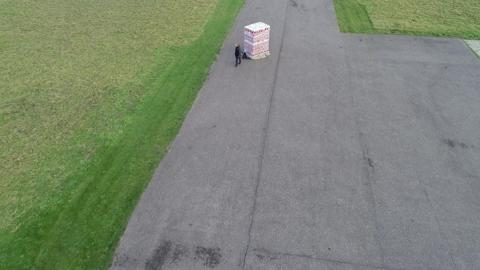RockwoolPallet: (244, 20, 272, 55)
